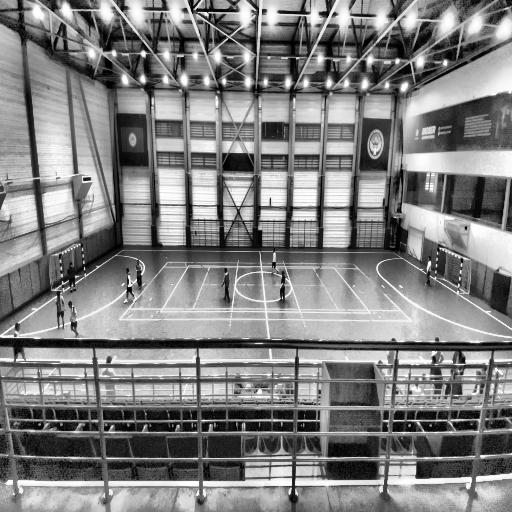player: (122, 267, 137, 306), (68, 298, 80, 340), (221, 266, 232, 305), (55, 290, 65, 332), (67, 260, 77, 294), (278, 269, 287, 304), (136, 258, 144, 290), (426, 255, 432, 287), (271, 247, 278, 274)
